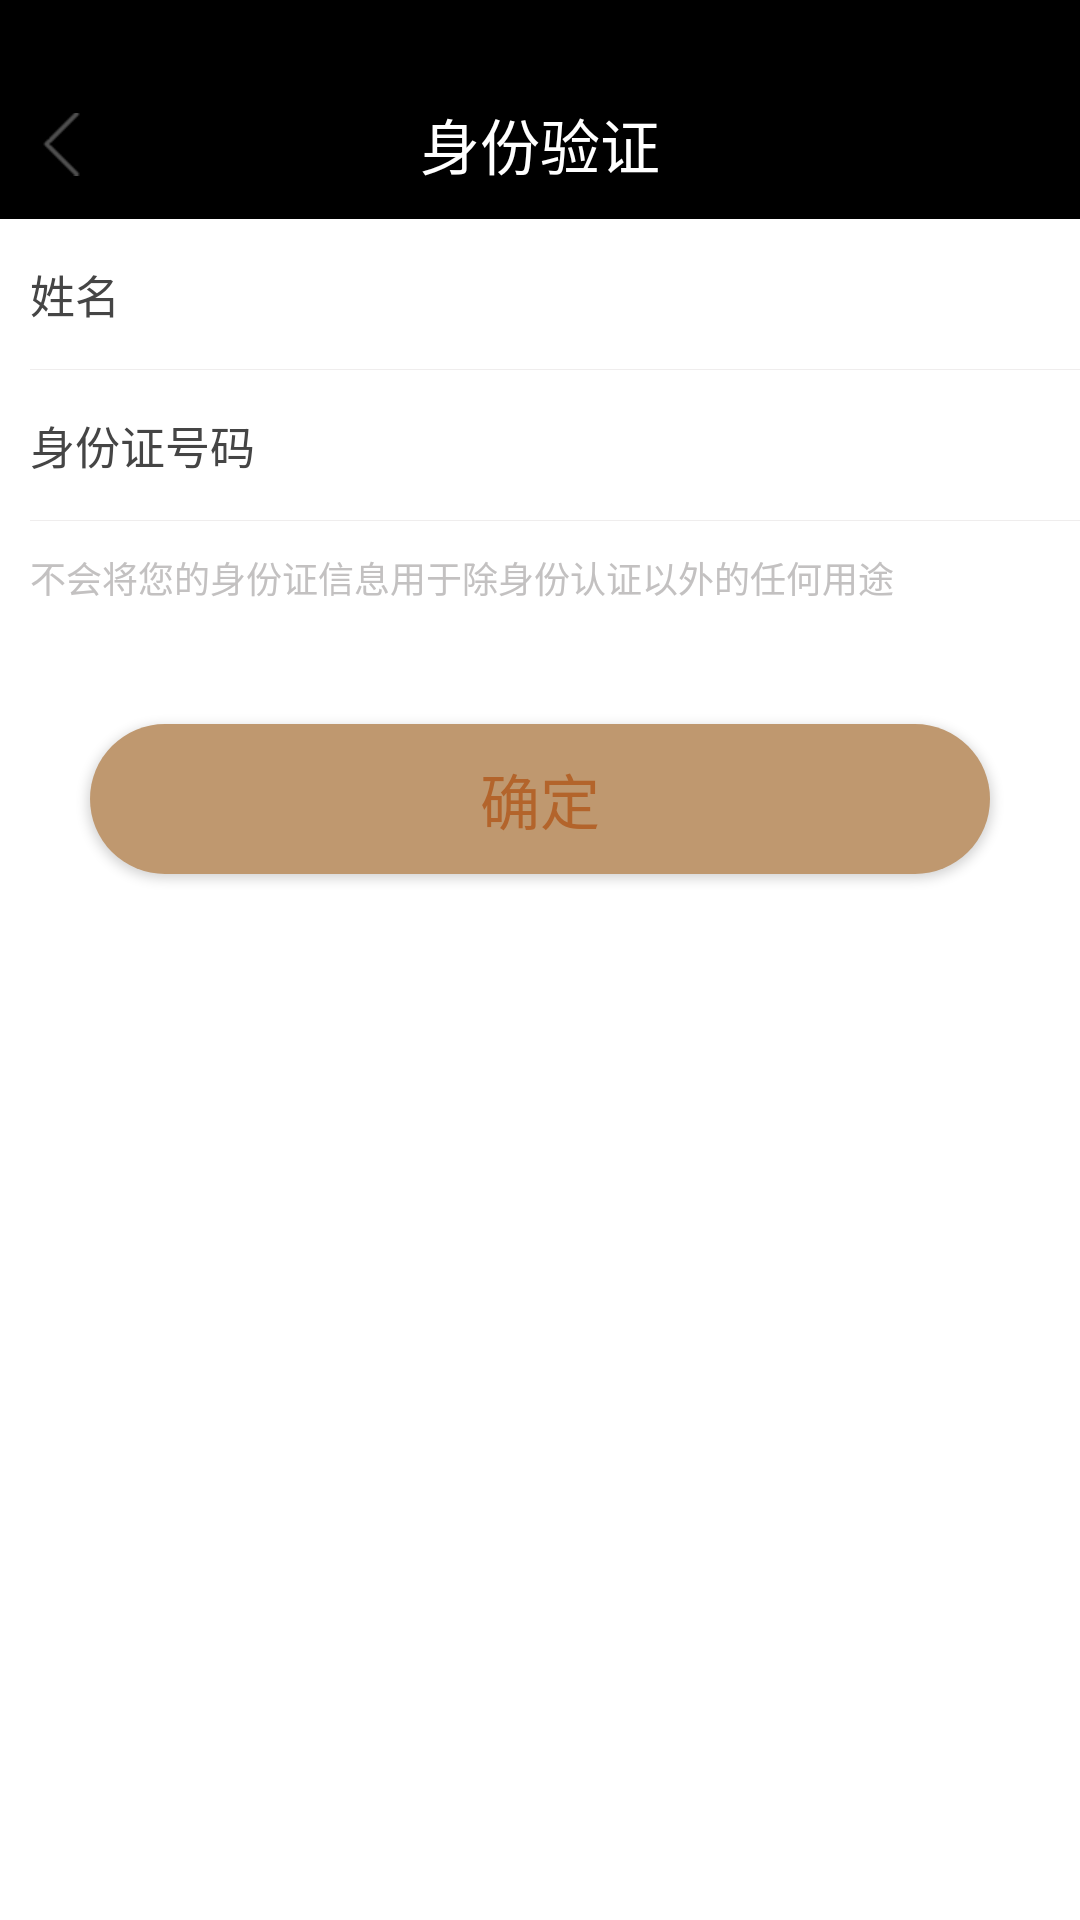

Locate icon controls on the screen. Image size 1080×1920, boxes as bbox(x1, y1, x2, y2).
back: bbox(44, 113, 79, 176)
